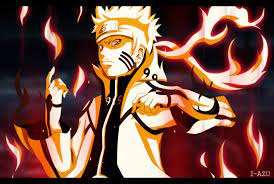Naruto: (92, 7, 159, 78)
